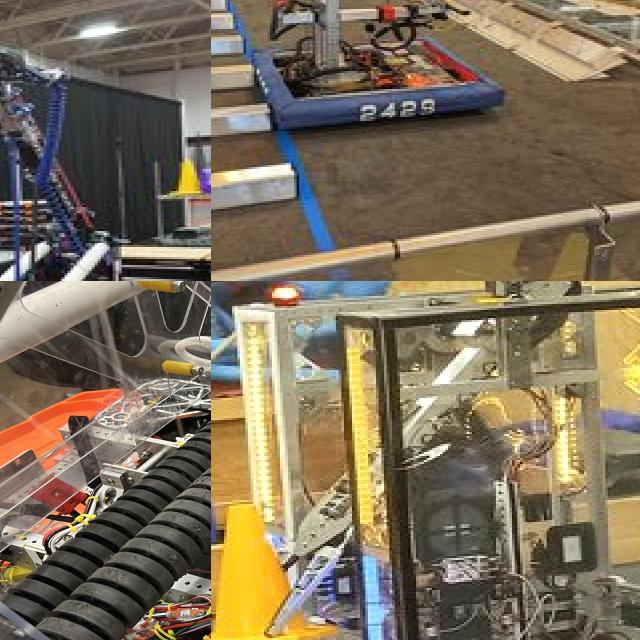FRC-Robots: (211, 281, 640, 640), (0, 281, 211, 640), (0, 0, 211, 281), (211, 0, 640, 137)
